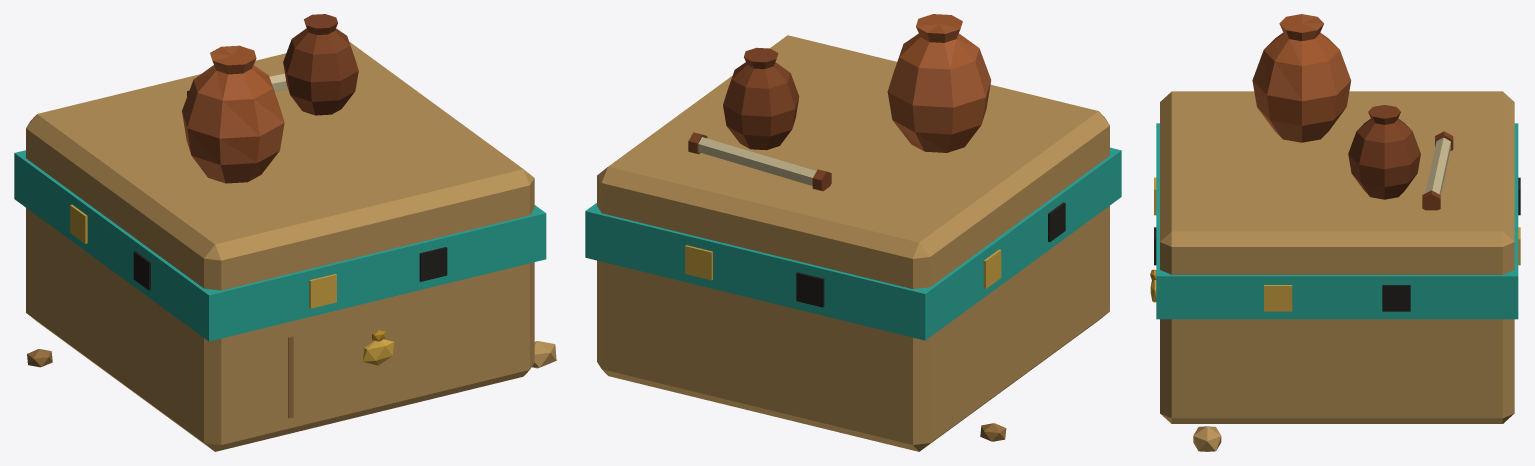
The model's file is kit-egypt-crate.glb.
3 views of the same model, side by side, from view 1: azimuth 30°, elevation 25°; view 2: azimuth 150°, elevation 25°; view 3: azimuth 270°, elevation 25° (orthographic). The views are drawn at different scales.
Visible parts, largest first — view 1: kit-egypt-crate; view 2: kit-egypt-crate; view 3: kit-egypt-crate.
Boxes of the visible parts, <box> form: kit-egypt-crate: <box>14,14,556,451</box>; kit-egypt-crate: <box>585,14,1121,451</box>; kit-egypt-crate: <box>1150,14,1520,451</box>.
Size of the model in its own units: 1.84 by 1.46 by 1.57.
